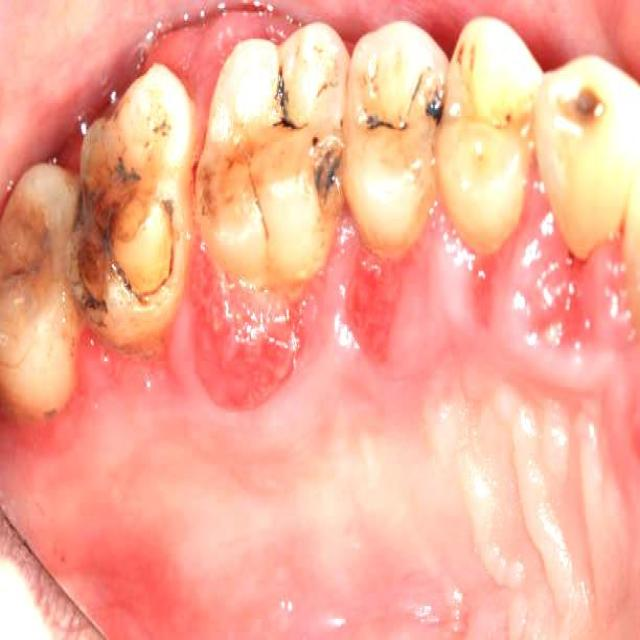caries: (69, 149, 176, 319), (0, 187, 64, 350), (194, 122, 262, 226), (548, 71, 625, 148), (291, 120, 350, 214), (352, 59, 413, 149), (254, 52, 314, 142), (415, 61, 456, 142)
